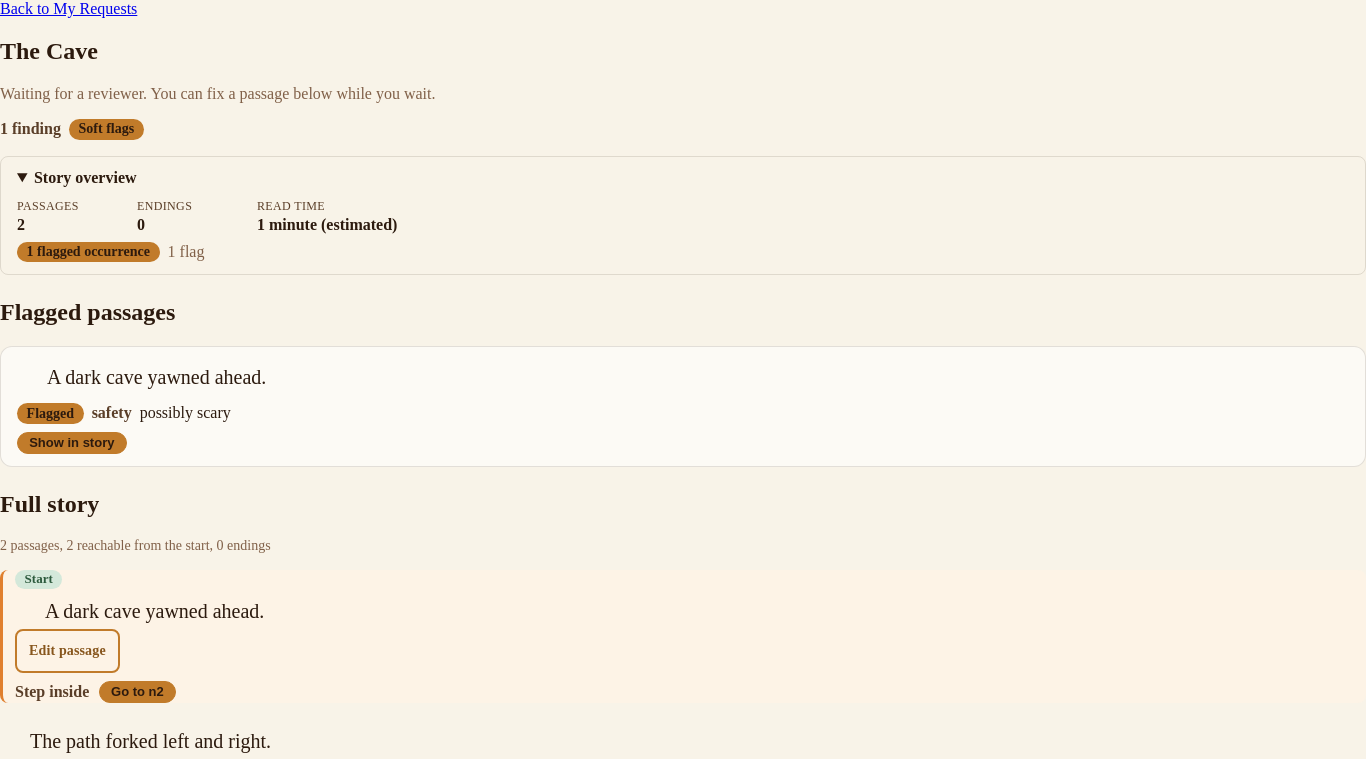
Test case: GuardianReviewDetailPage › passage edit (G6) › saves an edit and refreshes the surface with the response
Click the 1st button "Edit passage" at [67, 651], box [15,629,120,673]
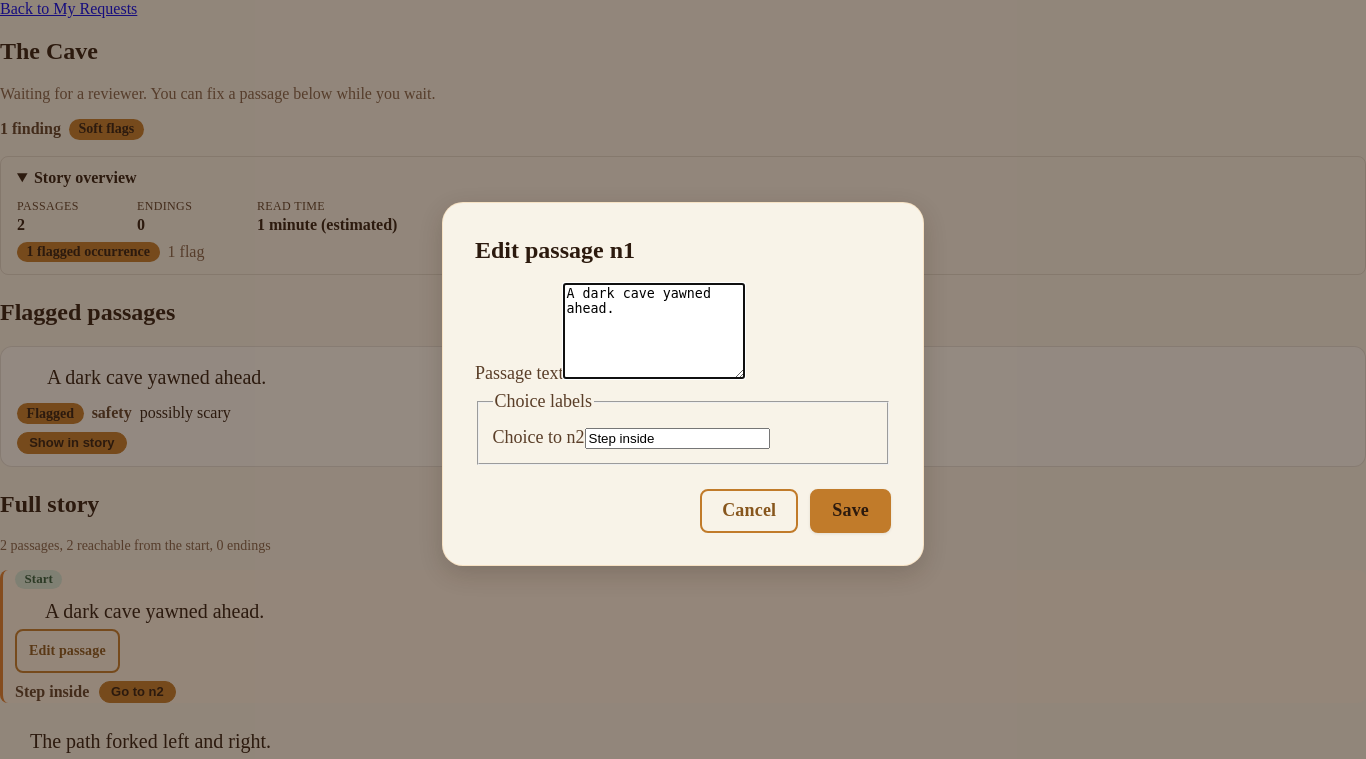
Replace the text in the text box labelled "Passage text" with "A NEWLY WRITTEN cave entrance." at [654, 331], box [564,283,746,379]
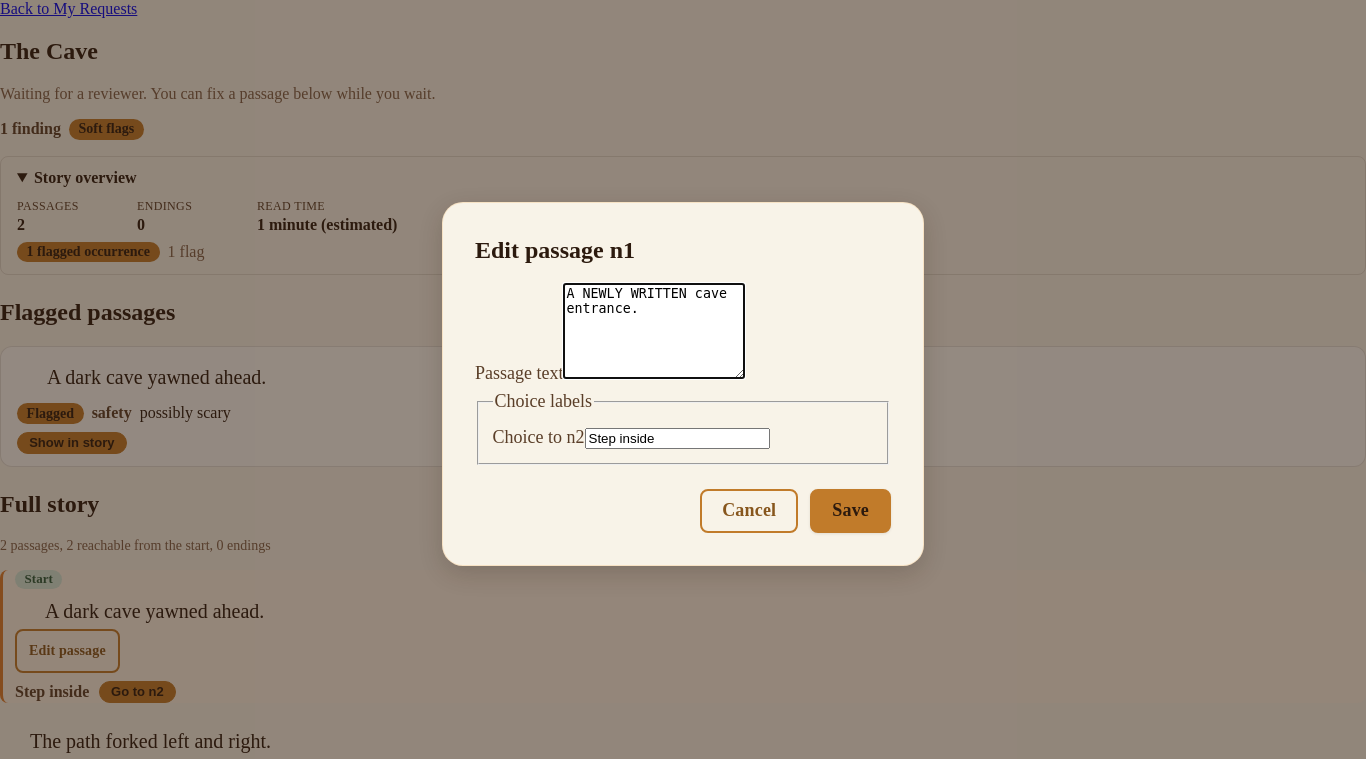
Click the button "Save" at [851, 511], box [810,489,891,533]
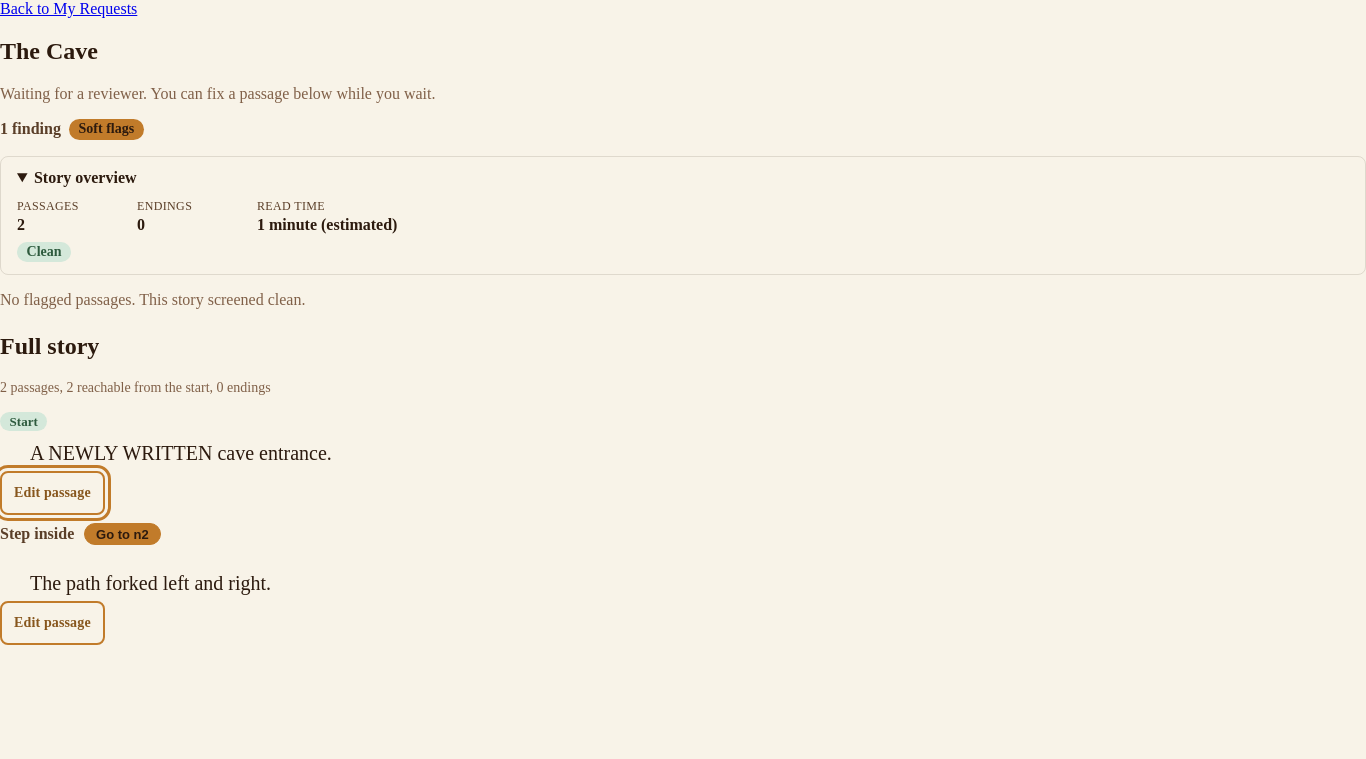
Expected: the dialog is gone
Expected: the text "A NEWLY WRITTEN cave entrance." is shown, [30,442,332,464]
